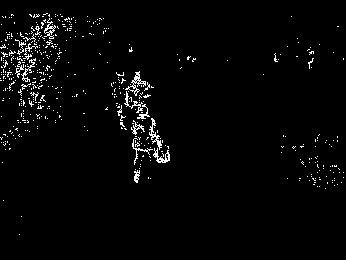person: (132, 107, 170, 182), (115, 71, 128, 128)
